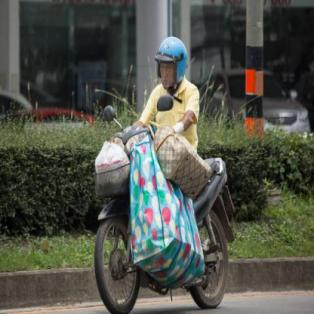Motocicleta: (89, 112, 233, 312)
